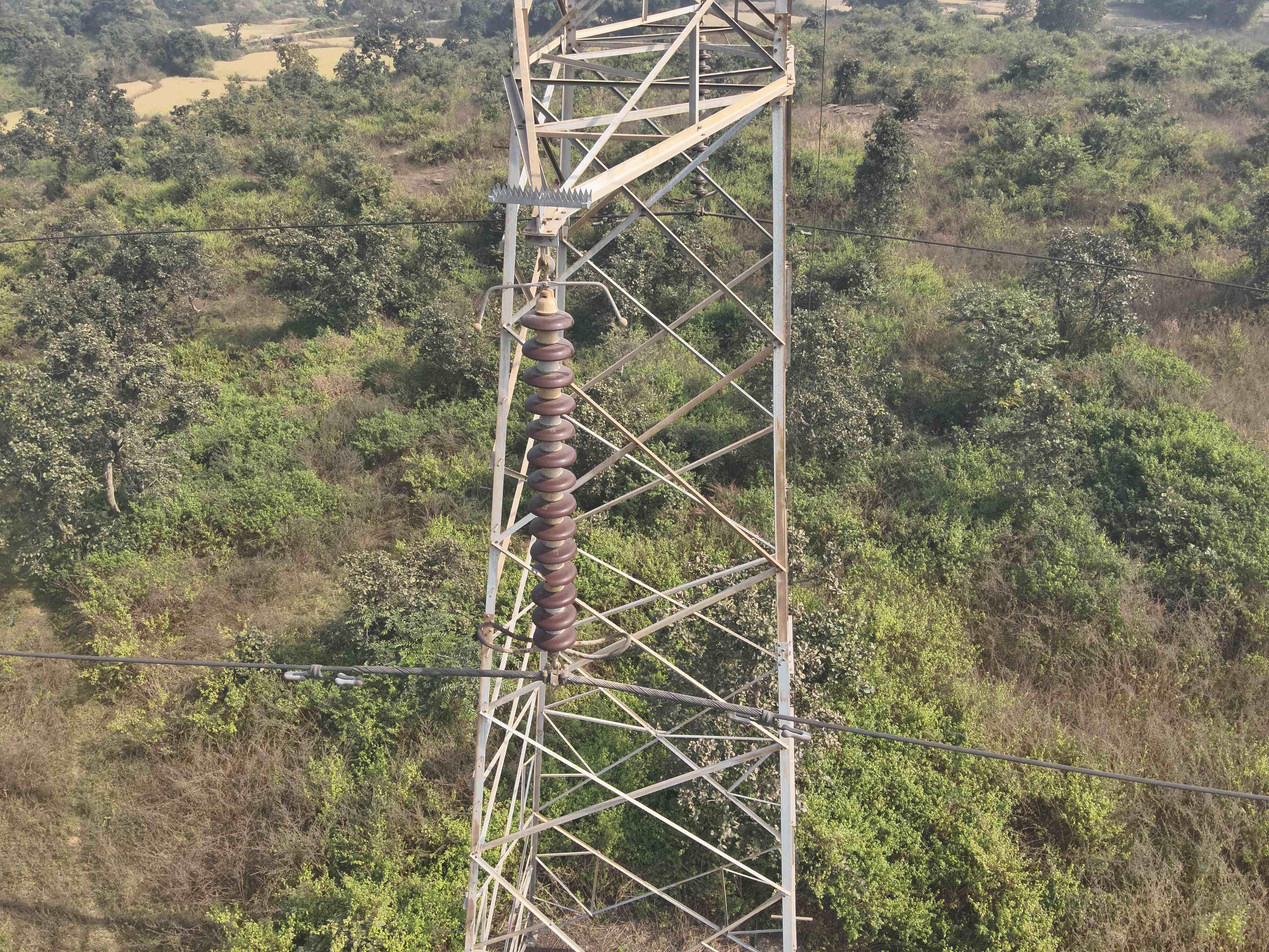broken_insulator: (522, 558, 586, 588)
